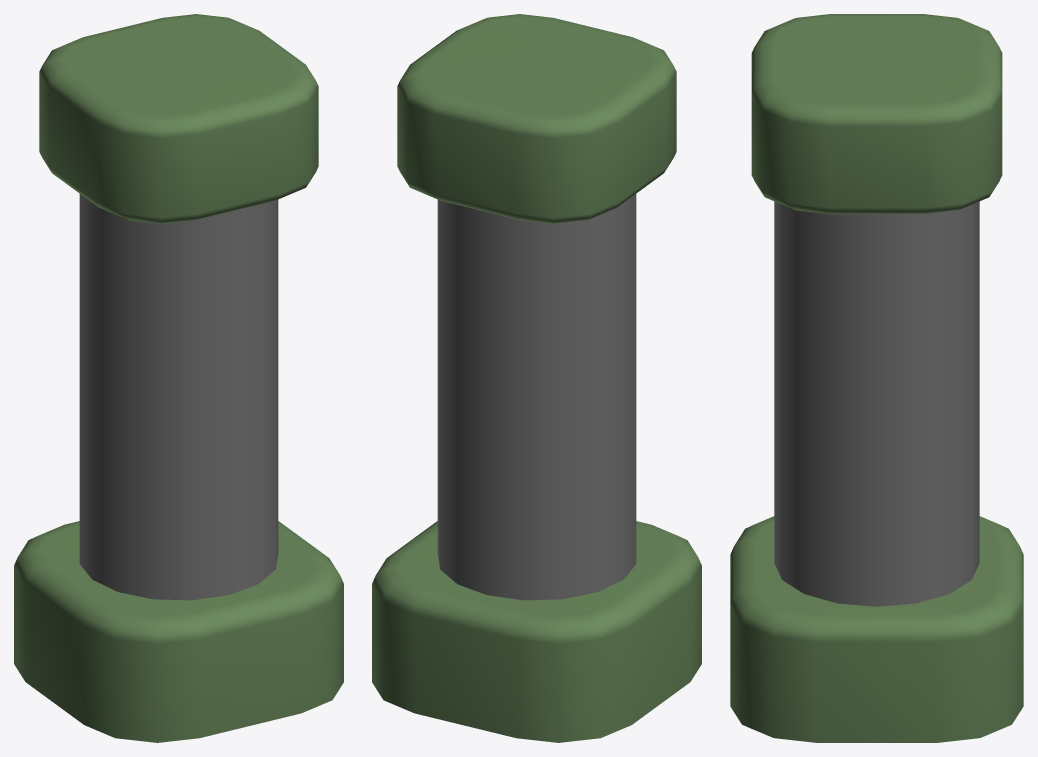
The model's file is Env1_Pillar.fbx.
3 renders of one model, left to right at view 1: azimuth 30°, elevation 25°; view 2: azimuth 150°, elevation 25°; view 3: azimuth 270°, elevation 25°, orthographic. The views are drawn at different scales.
Parts seen in each view (by area): view 1: Env1_Pillar; view 2: Env1_Pillar; view 3: Env1_Pillar.
Boxes of the visible parts, box(x1,y1,x2,y2) form: Env1_Pillar: box(14, 14, 343, 742); Env1_Pillar: box(372, 14, 701, 742); Env1_Pillar: box(730, 14, 1023, 742).
Size of the model in its own units: 85.28 by 199 by 85.28.
